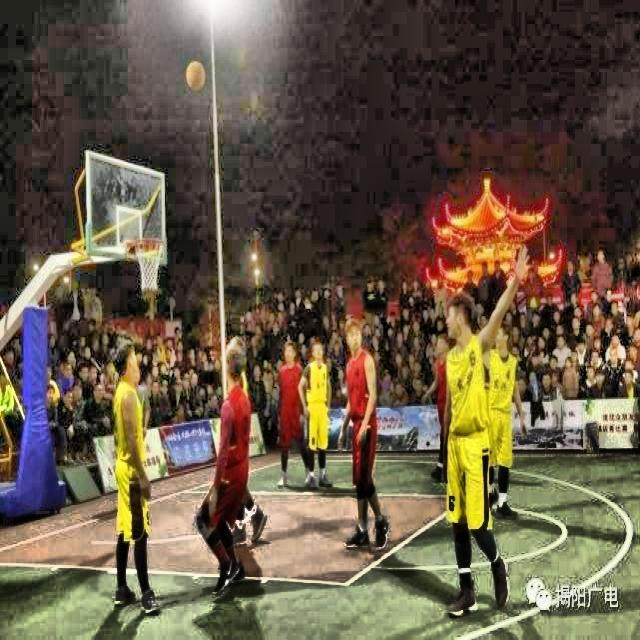rim: (136, 237, 165, 292)
